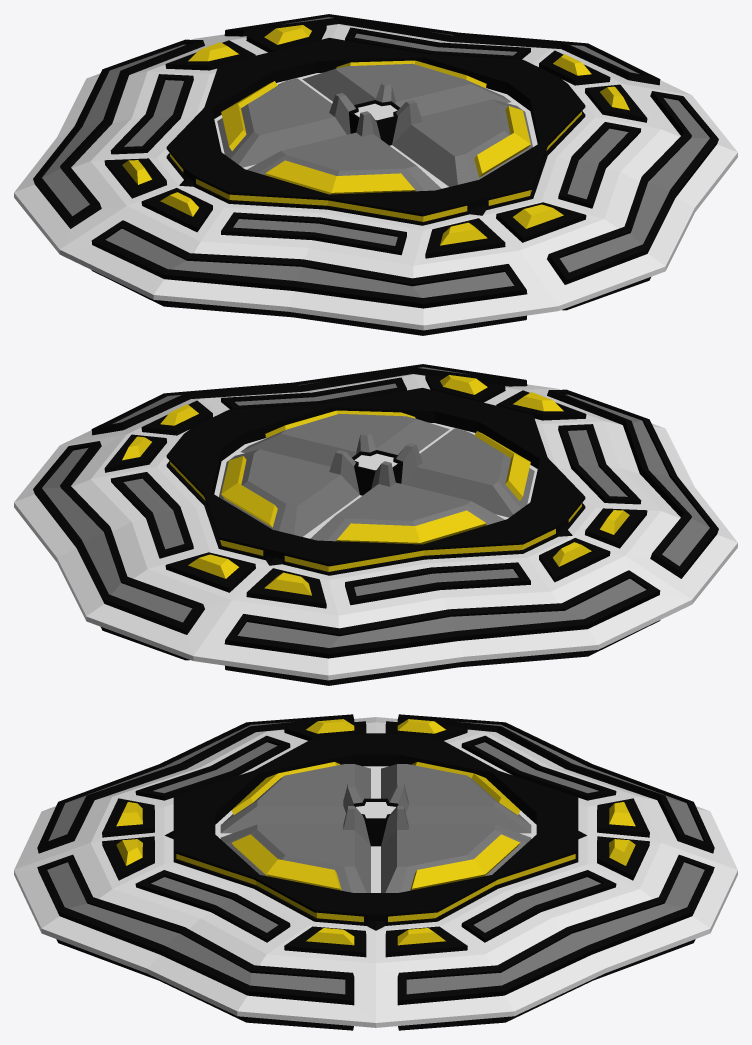
The model's file is Mothership.fbx.
3 renders of one model, top to bottom at view 1: azimuth 30°, elevation 25°; view 2: azimuth 150°, elevation 25°; view 3: azimuth 270°, elevation 25°, orthographic.
Visible parts, largest first — view 1: Cylinder; view 2: Cylinder; view 3: Cylinder.
Boxes of the visible parts, x1,y1,x2,y2 form: Cylinder: (14,14,737,335); Cylinder: (14,364,737,685); Cylinder: (14,714,737,1030).
Size of the model in its own units: 59212 by 13672 by 59212.
